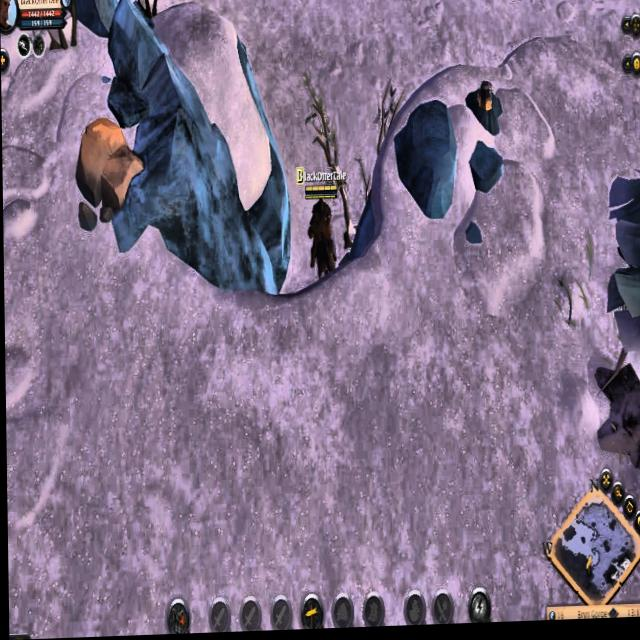copperore: (464, 75, 504, 142)
limestone: (73, 109, 146, 239)
